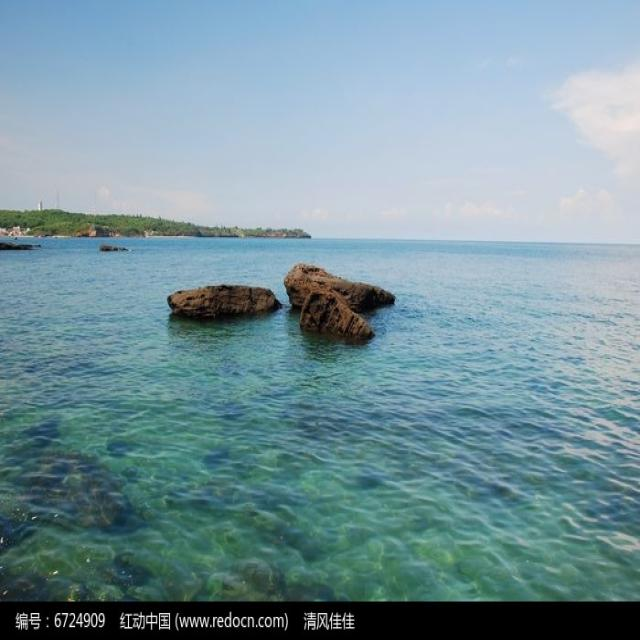island: (0, 189, 318, 250)
